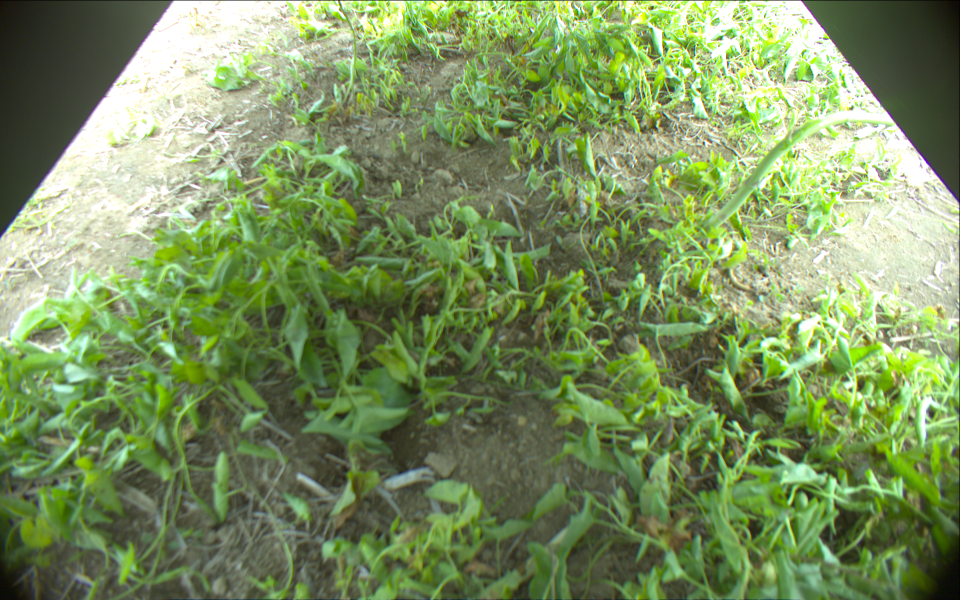aspa: (699, 112, 894, 233), (337, 1, 357, 107)
